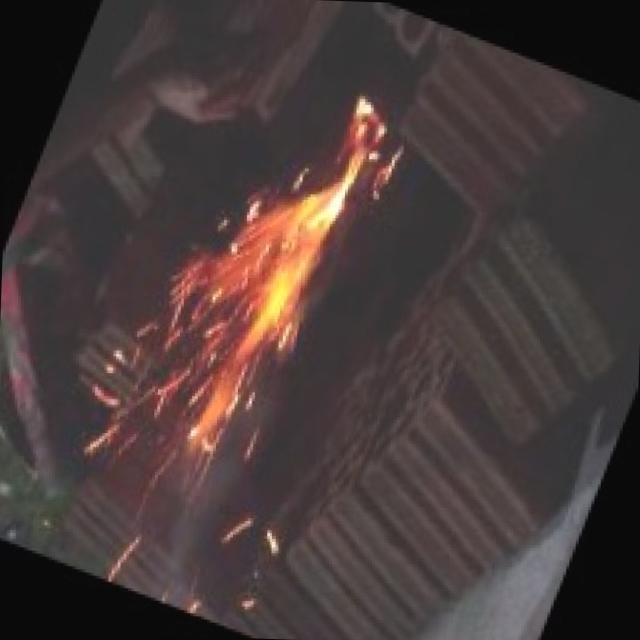fire: (12, 12, 466, 622)
